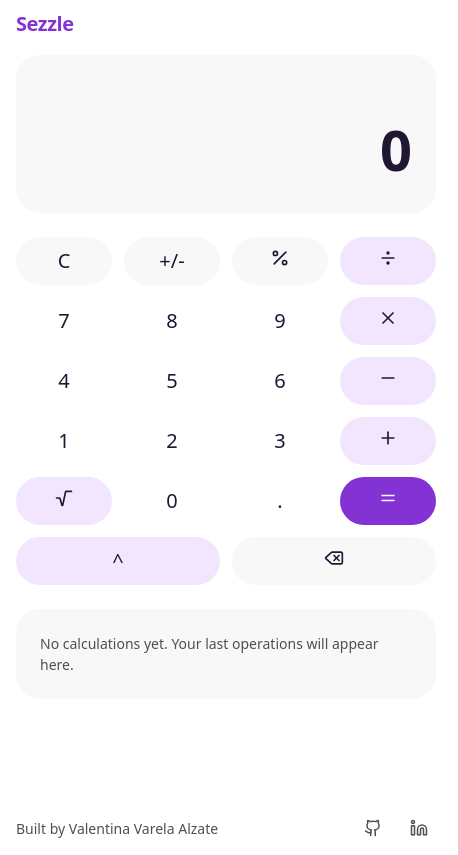
Test: App › shows the pending expression 2 + while typing the second operand
Click the button "2": coordinates (172, 441) x1=124 y1=417 x2=220 y2=465
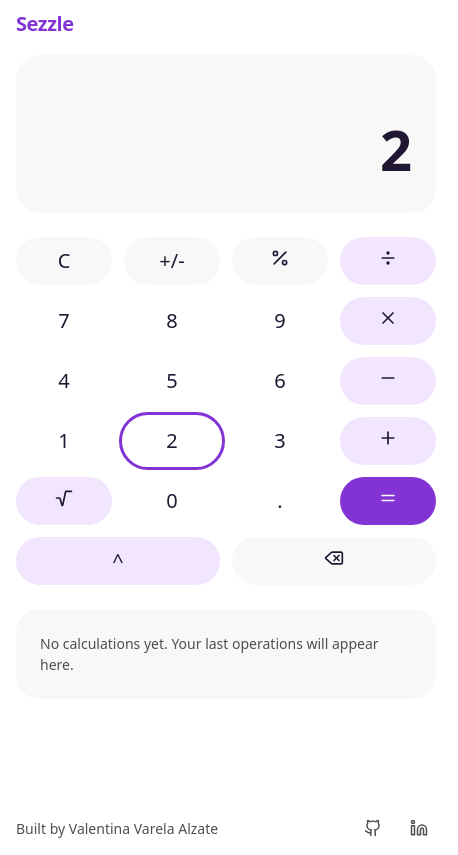
Click the button named "Add": coordinates (388, 441) x1=340 y1=417 x2=436 y2=465
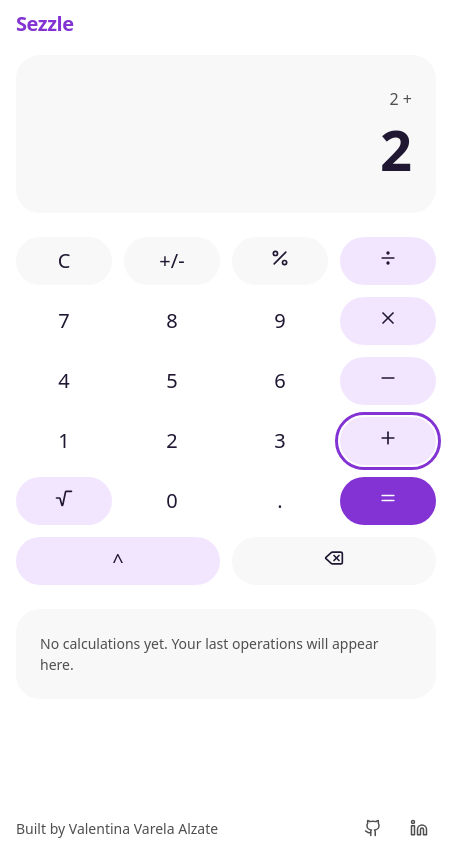
Result: the text "2" is shown at x1=380 y1=111 x2=412 y2=187
Result: the text "2 +" is shown at x1=390 y1=88 x2=412 y2=110
